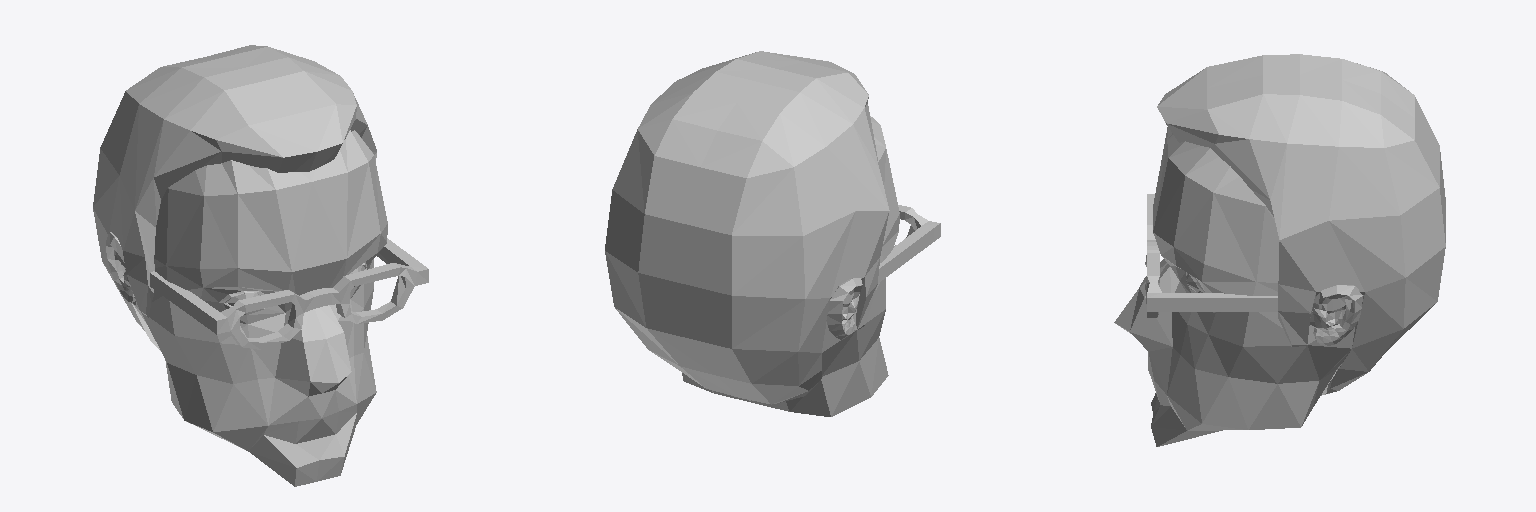
The model's file is Headmaster_open.obj.
The picture shows the model from 3 angles: view 1: azimuth 30°, elevation 25°; view 2: azimuth 150°, elevation 25°; view 3: azimuth 270°, elevation 25°; orthographic projection.
Visible parts, largest first — view 1: face_Cube.003, hair_bse_Cube.009, Glasses_Plane.001; view 2: hair_bse_Cube.009, face_Cube.003, Glasses_Plane.001; view 3: hair_bse_Cube.009, face_Cube.003, Glasses_Plane.001.
Part boxes in pixels (x1,y1,x2,y2): face_Cube.003: (106, 130, 387, 486); hair_bse_Cube.009: (93, 45, 376, 350); Glasses_Plane.001: (150, 238, 428, 349); hair_bse_Cube.009: (605, 51, 889, 404); face_Cube.003: (682, 116, 899, 416); Glasses_Plane.001: (878, 205, 940, 282); hair_bse_Cube.009: (1157, 54, 1445, 395); face_Cube.003: (1114, 127, 1363, 446); Glasses_Plane.001: (1145, 194, 1312, 317).
Size of the model in its own units: 4.98 by 7.12 by 5.9.